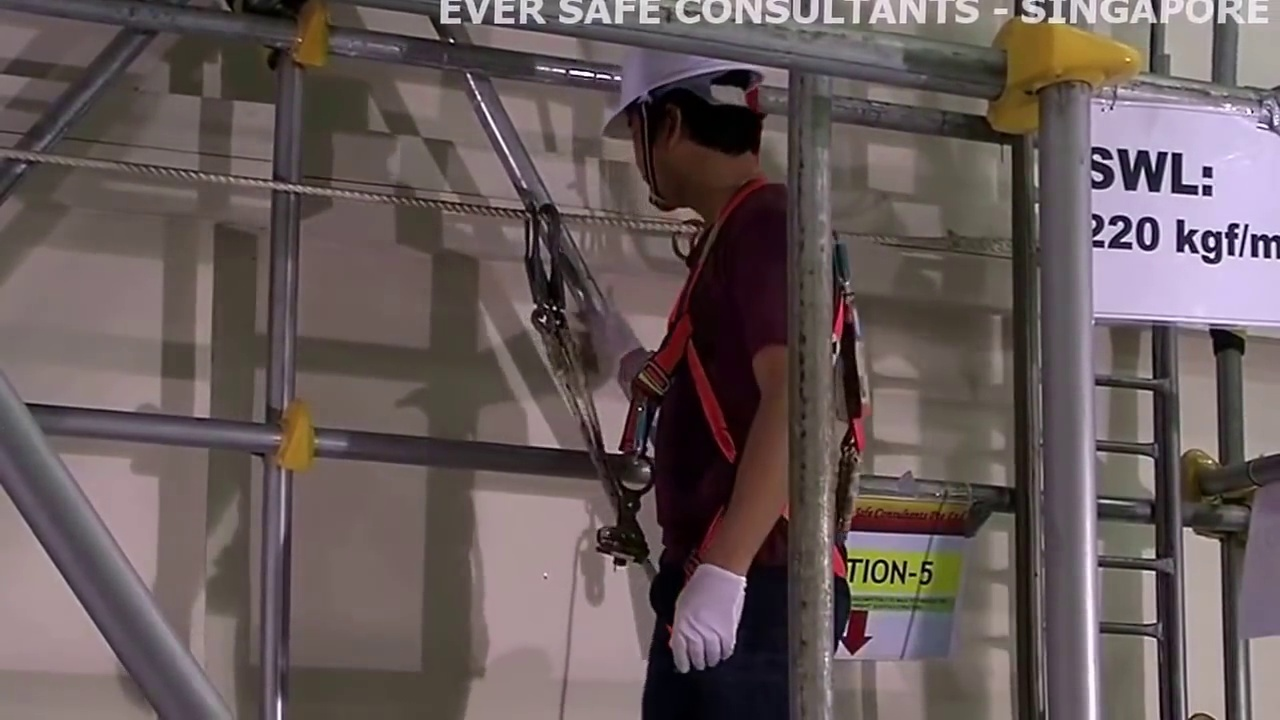harness: (640, 239, 731, 469)
helmet: (608, 54, 740, 109)
hook: (517, 199, 578, 313)
leash: (543, 351, 633, 544)
